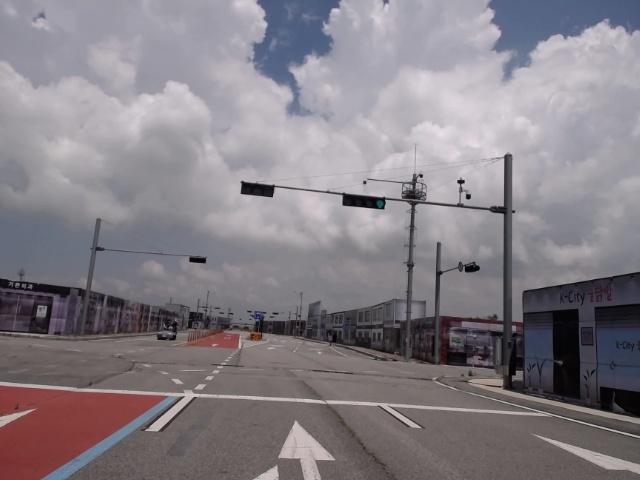straight_green_4: (342, 193, 386, 210)
